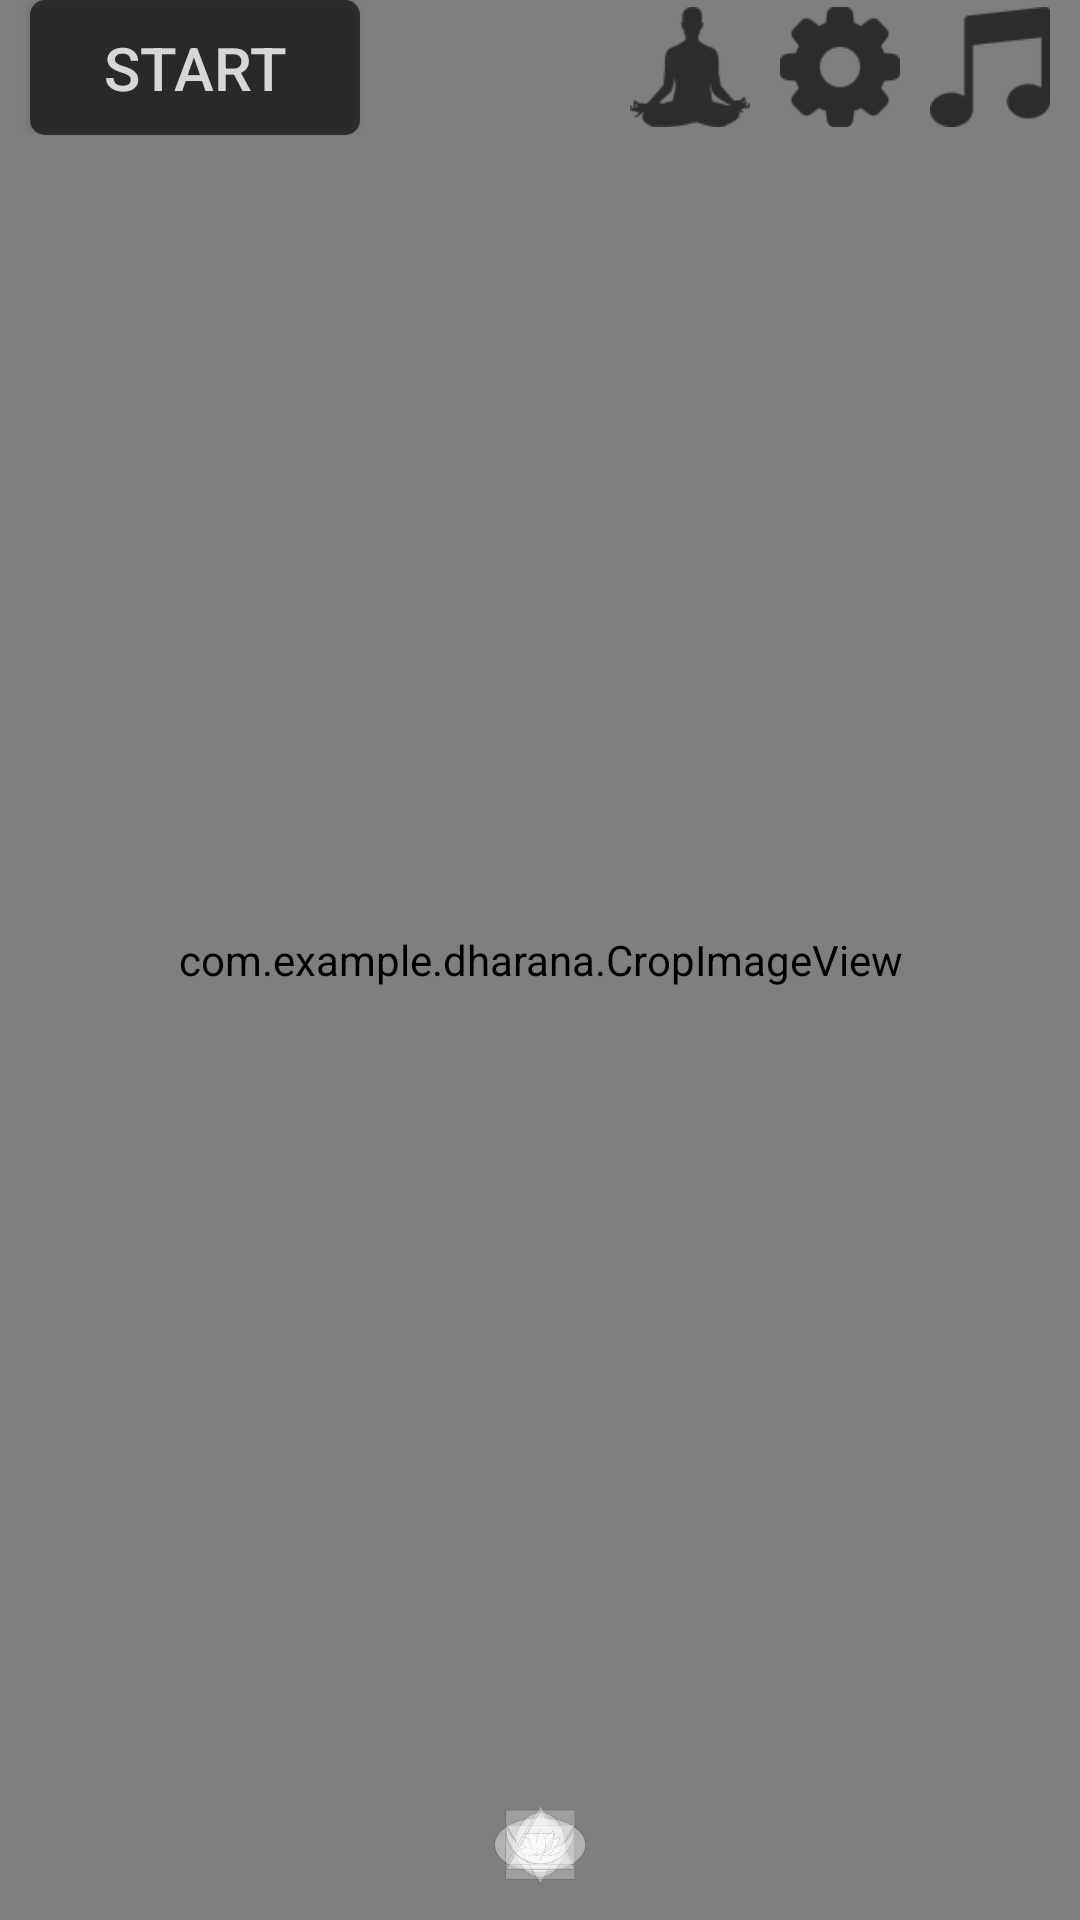

Icons on this 1080×1920 Android screen, each with its box as (x1, y1, x2, y2):
Settings button: (780, 7, 900, 127)
Toggle music button: (930, 7, 1050, 127)
